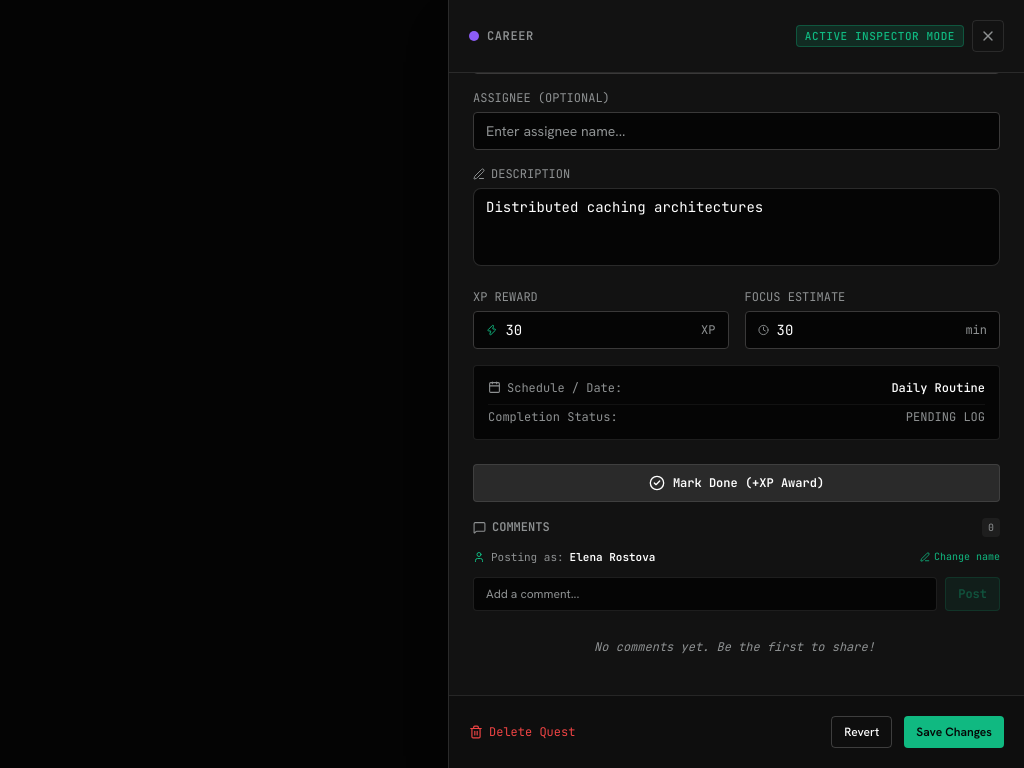
TaskInspectorDrawer - Guest Commenting Identity › allows anonymous guests to open the inline name editor
(page scrolled)
Click the button "Change name": (960, 557) top-left (920, 549), bottom-right (1000, 564)
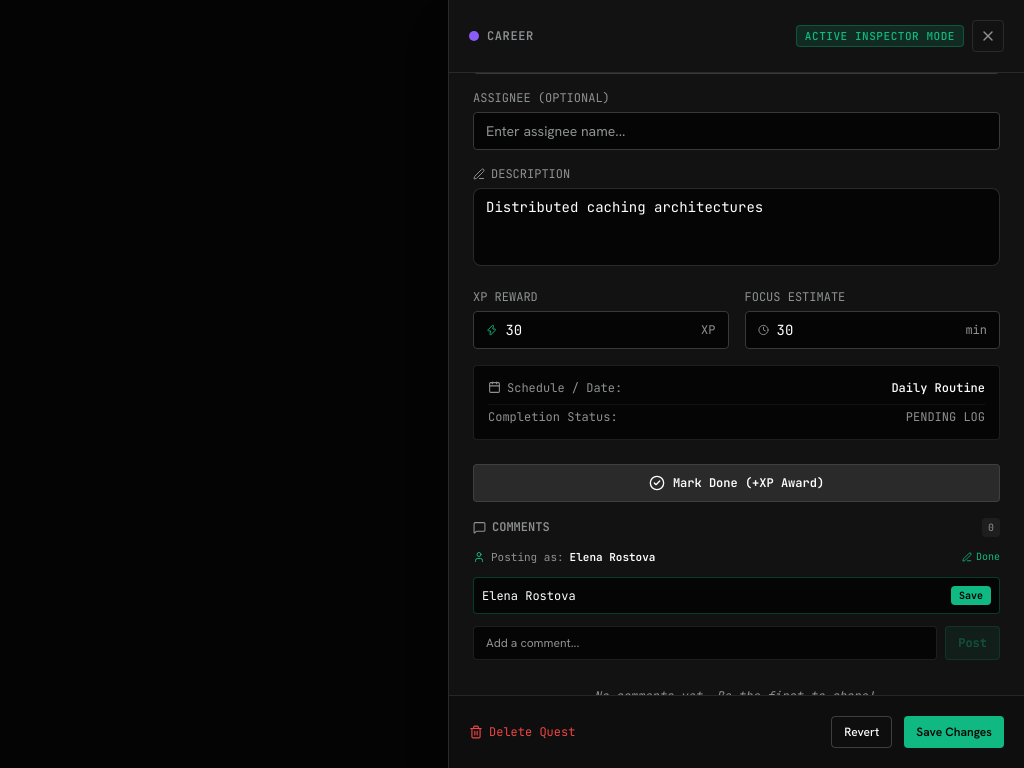
Expected: the field with placeholder "Enter your name..." is shown, top-left (482, 588), bottom-right (943, 604)
